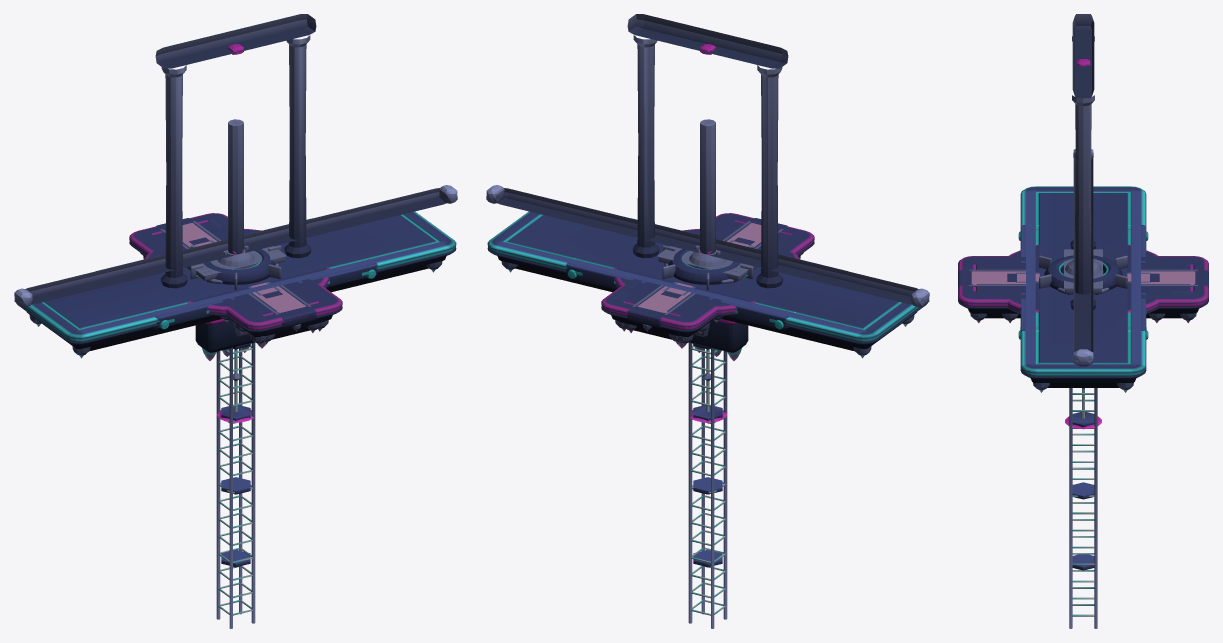
File: core-5-CICqqYub.glb
The picture shows the model from 3 angles, left to right: view 1: azimuth 30°, elevation 25°; view 2: azimuth 150°, elevation 25°; view 3: azimuth 270°, elevation 25°; orthographic projection. The views are drawn at different scales.
Visible parts, largest first — view 1: block_28x2x8_grate#0, pressFrame_7x6x3x7#0, mount_15.3#0, truss_24#0, press_5x6x2#0, block_7x2x16#0, beam_2.5x1.5x16_plank#0, belt_16x1.5x8x1#0, block_6x2x16#0, geyserVent_3#0, block_7x2x12#0, disc_12x1.5#0 (+1 smaller); view 2: block_28x2x8_grate#0, pressFrame_7x6x3x7#0, mount_15.3#0, truss_24#0, press_5x6x2#0, block_7x2x16#0, beam_2.5x1.5x16_plank#0, belt_16x1.5x8x1#0, block_6x2x16#0, geyserVent_3#0, block_7x2x12#0, disc_12x1.5#0 (+1 smaller); view 3: block_28x2x8_grate#0, pressFrame_7x6x3x7#0, truss_24#0, block_7x2x16#0, mount_15.3#0, beam_2.5x1.5x16_plank#0, block_7x2x12#0, geyserVent_3#0, block_6x2x16#0, disc_12x1.5#0, belt_16x1.5x8x1#0, burner_5.5x1.2x2#0 (+1 smaller).
Boxes of the visible parts, box(x1,y1,x2,y2) form: block_28x2x8_grate#0: box(16, 211, 456, 358); pressFrame_7x6x3x7#0: box(155, 14, 316, 288); mount_15.3#0: box(14, 185, 457, 307); truss_24#0: box(216, 342, 255, 628); press_5x6x2#0: box(195, 119, 265, 360); block_7x2x16#0: box(129, 213, 342, 346); beam_2.5x1.5x16_plank#0: box(156, 218, 316, 331); belt_16x1.5x8x1#0: box(96, 218, 378, 330); block_6x2x16#0: box(141, 215, 330, 344); geyserVent_3#0: box(190, 245, 281, 289); block_7x2x12#0: box(150, 226, 321, 334); disc_12x1.5#0: box(144, 229, 330, 337); block_28x2x8_grate#0: box(487, 211, 927, 358); pressFrame_7x6x3x7#0: box(627, 14, 788, 288); mount_15.3#0: box(486, 185, 929, 307); truss_24#0: box(688, 342, 727, 628); press_5x6x2#0: box(678, 119, 748, 360); block_7x2x16#0: box(601, 213, 814, 346); beam_2.5x1.5x16_plank#0: box(627, 218, 787, 331); belt_16x1.5x8x1#0: box(565, 218, 847, 330); block_6x2x16#0: box(613, 215, 802, 344); geyserVent_3#0: box(662, 245, 753, 289); block_7x2x12#0: box(622, 226, 793, 334); disc_12x1.5#0: box(613, 229, 799, 337); block_28x2x8_grate#0: box(1020, 186, 1146, 392); pressFrame_7x6x3x7#0: box(1070, 14, 1096, 309); truss_24#0: box(1069, 388, 1097, 628); block_7x2x16#0: box(958, 256, 1208, 322); mount_15.3#0: box(1073, 149, 1093, 366); beam_2.5x1.5x16_plank#0: box(958, 269, 1208, 287); block_7x2x12#0: box(994, 256, 1172, 322); geyserVent_3#0: box(1039, 255, 1127, 289); block_6x2x16#0: box(958, 260, 1208, 295); disc_12x1.5#0: box(1004, 244, 1162, 313); belt_16x1.5x8x1#0: box(1018, 225, 1148, 339); burner_5.5x1.2x2#0: box(1064, 249, 1102, 294).
Size of the model in its own units: 31.5 by 40.4 by 16.
